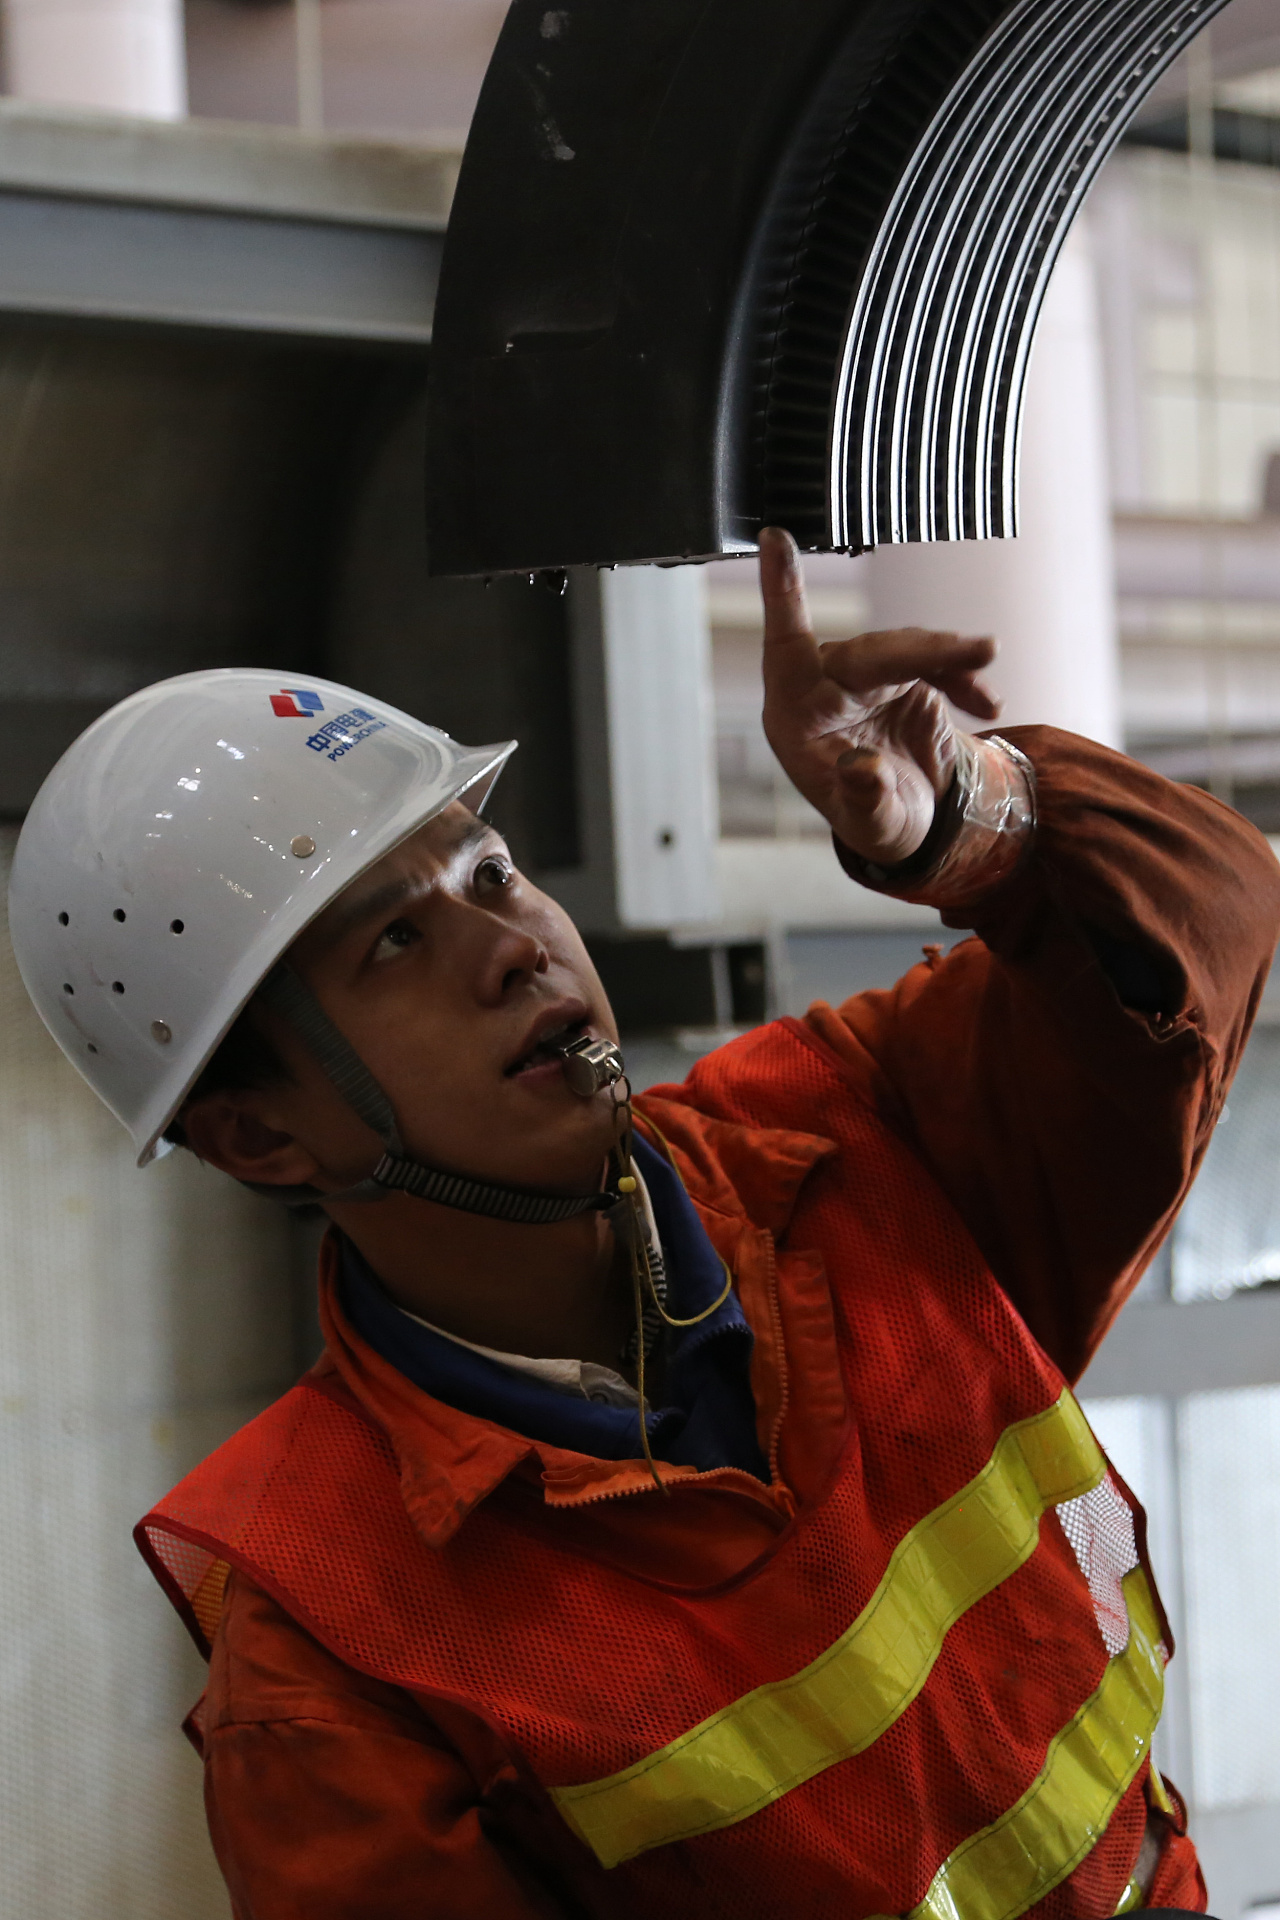safetyhat: (1, 571, 1201, 1920)
